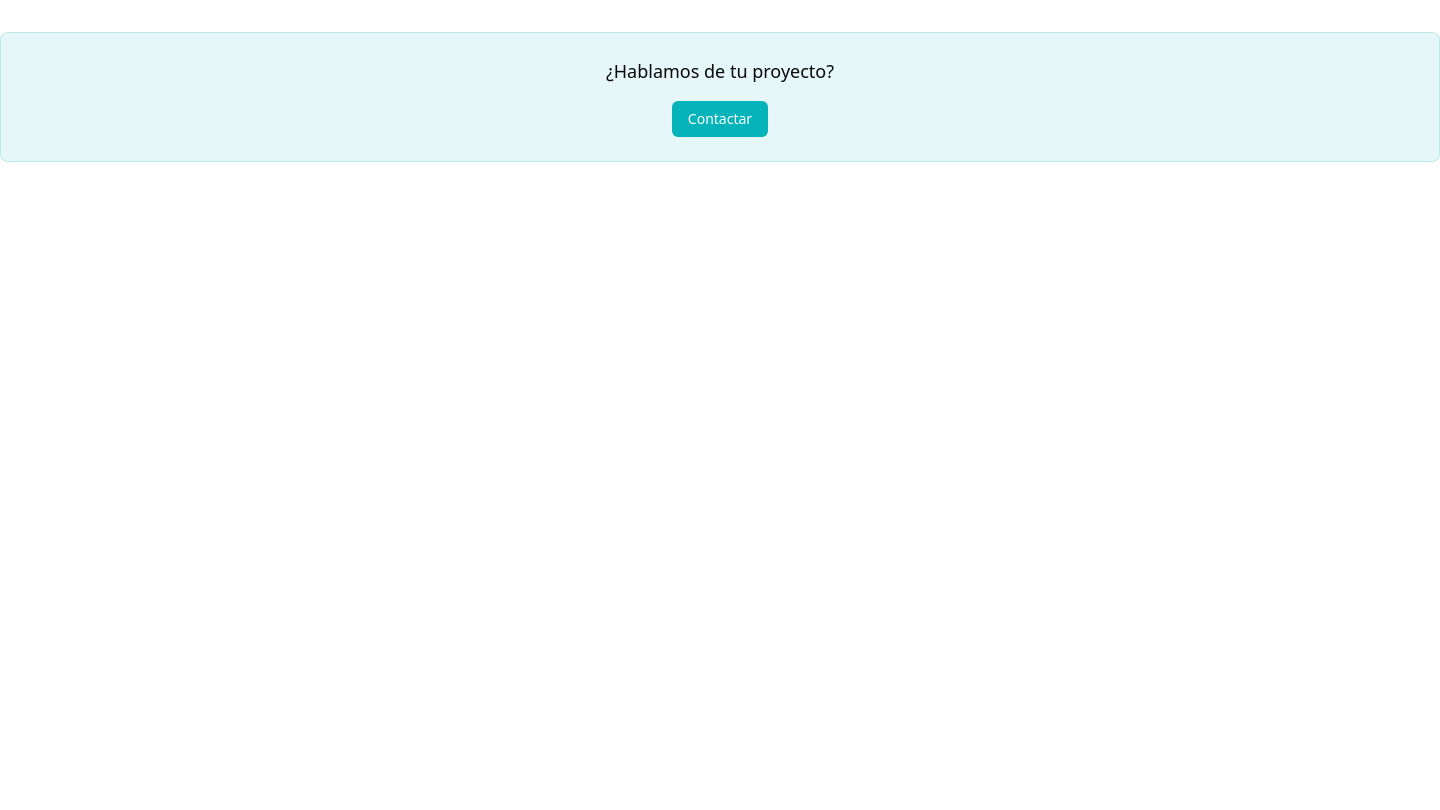
Test: ContactCTA › opens the contact modal with the lead form when the button is clicked
Click the button "Contactar".
click(720, 119)  # box [672,101,768,137]
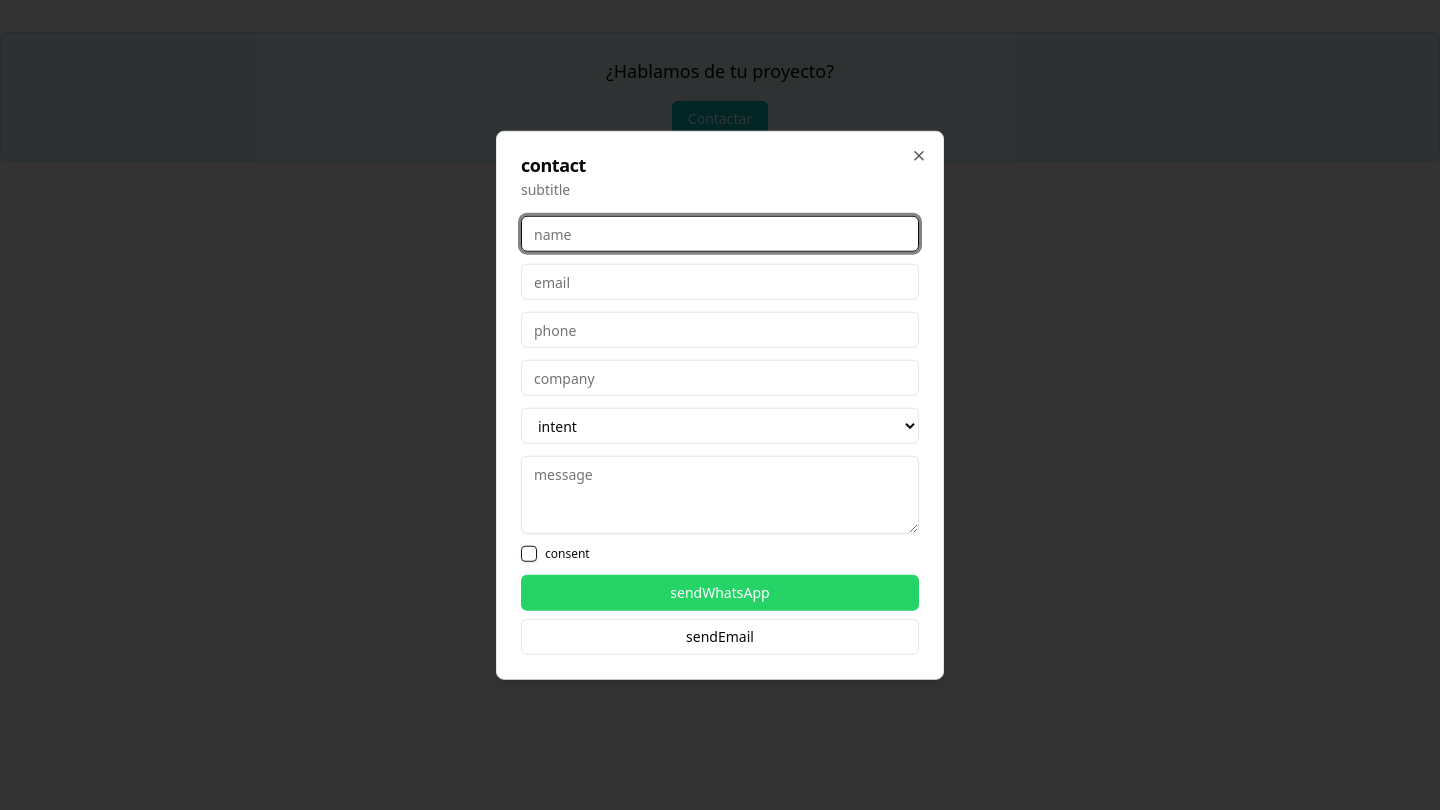
Expected: the dialog is shown, [496,131,944,679]
Expected: the form with test id "lead-form" is shown, [521,216,919,654]
Expected: the button "sendWhatsApp" is shown, [521,574,919,610]
